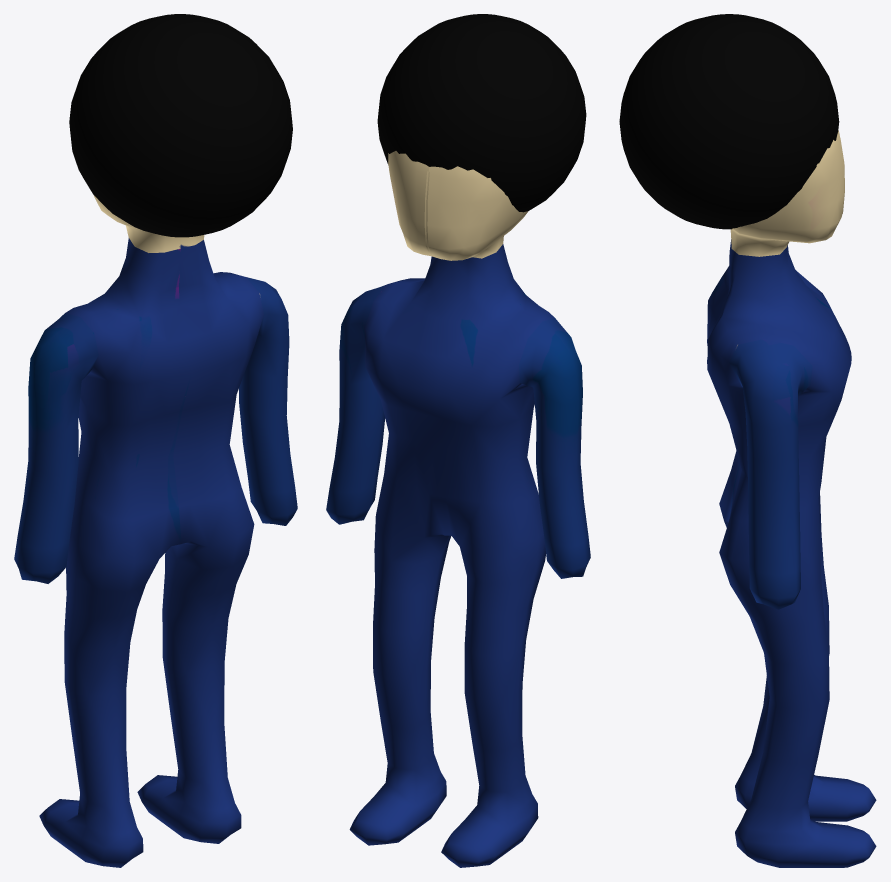
File: citizen.fbx
3 views of the same model, side by side, from view 1: azimuth 30°, elevation 25°; view 2: azimuth 150°, elevation 25°; view 3: azimuth 270°, elevation 25° (orthographic). The views are drawn at different scales.
Parts seen in each view (by area): view 1: Cylinder, Sphere; view 2: Cylinder, Sphere; view 3: Cylinder, Sphere.
Part boxes in pixels (x1=…): Cylinder: x1=14, y1=195, x2=297, y2=867; Sphere: x1=69, y1=14, x2=292, y2=237; Cylinder: x1=326, y1=151, x2=590, y2=867; Sphere: x1=377, y1=14, x2=586, y2=212; Cylinder: x1=707, y1=130, x2=876, y2=867; Sphere: x1=619, y1=14, x2=839, y2=229.
Size of the model in its own units: 2.31 by 6.8 by 1.94.
Materials: 2 (1 with a texture image).
